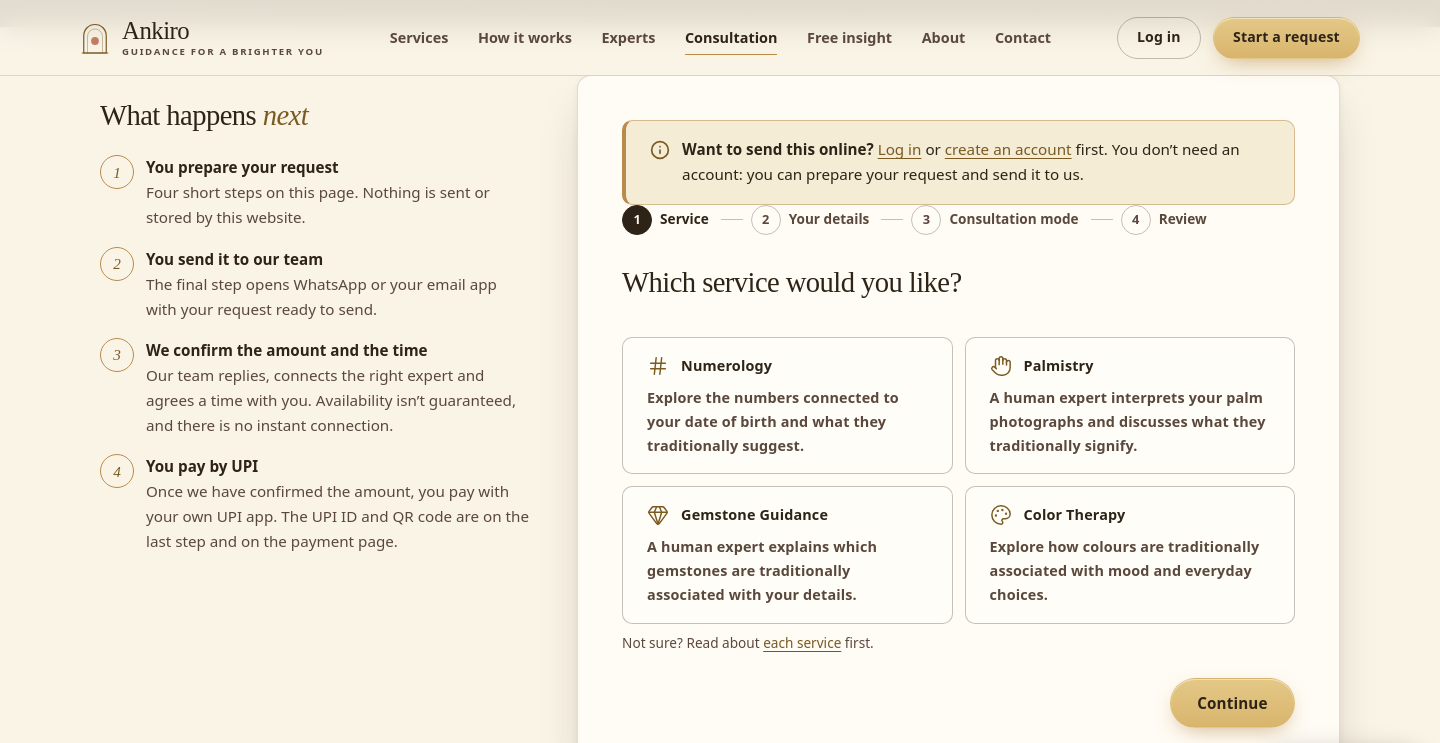
Test case: consultation request: online submission › a visitor who is not logged in is invited to log in and can still prepare an email request
(page scrolled)
Expected: the text "Want to send this online?" is shown, x1=682 y1=139 x2=874 y2=159
Click the radio button labelled "Numerology".
click(787, 406)  # box x1=622 y1=337 x2=952 y2=474
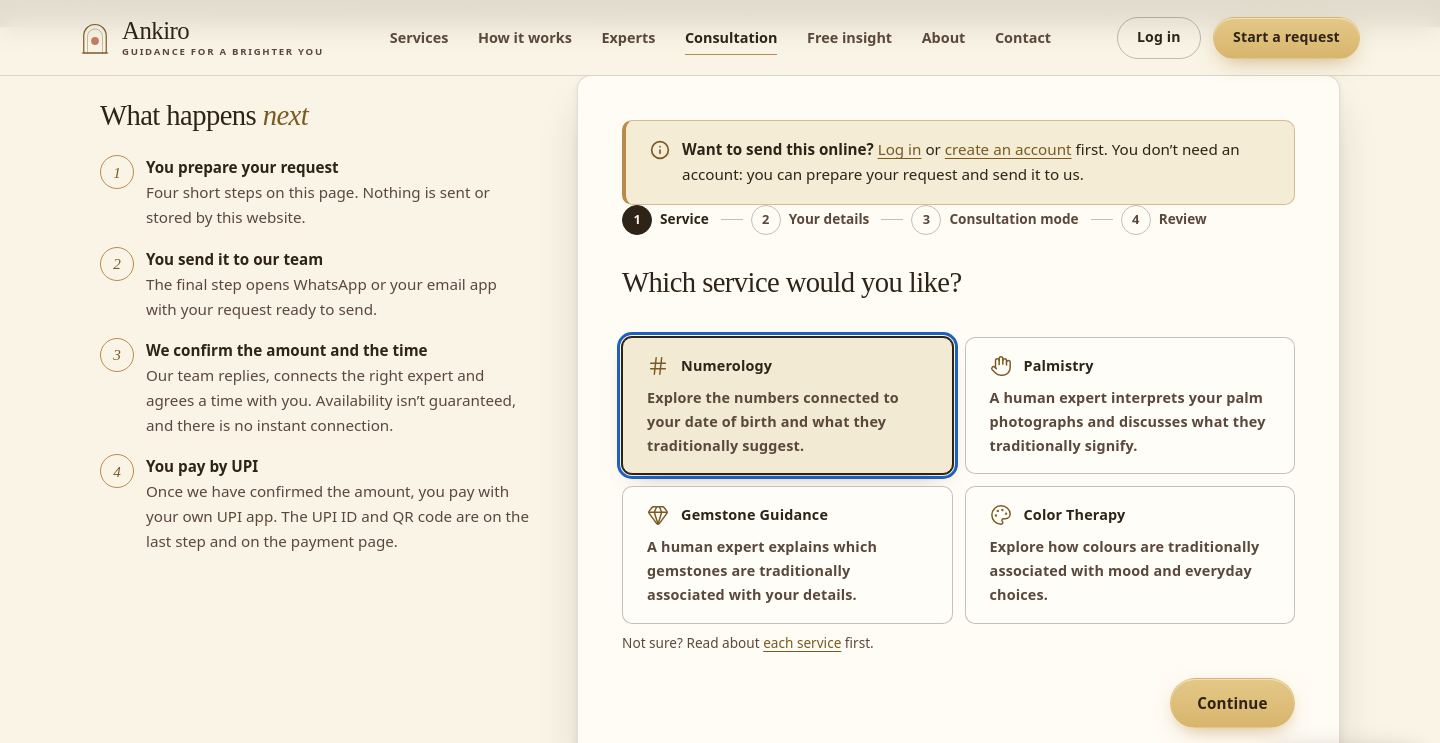
Click the button "Continue".
click(1232, 703)  # box x1=1170 y1=678 x2=1295 y2=728
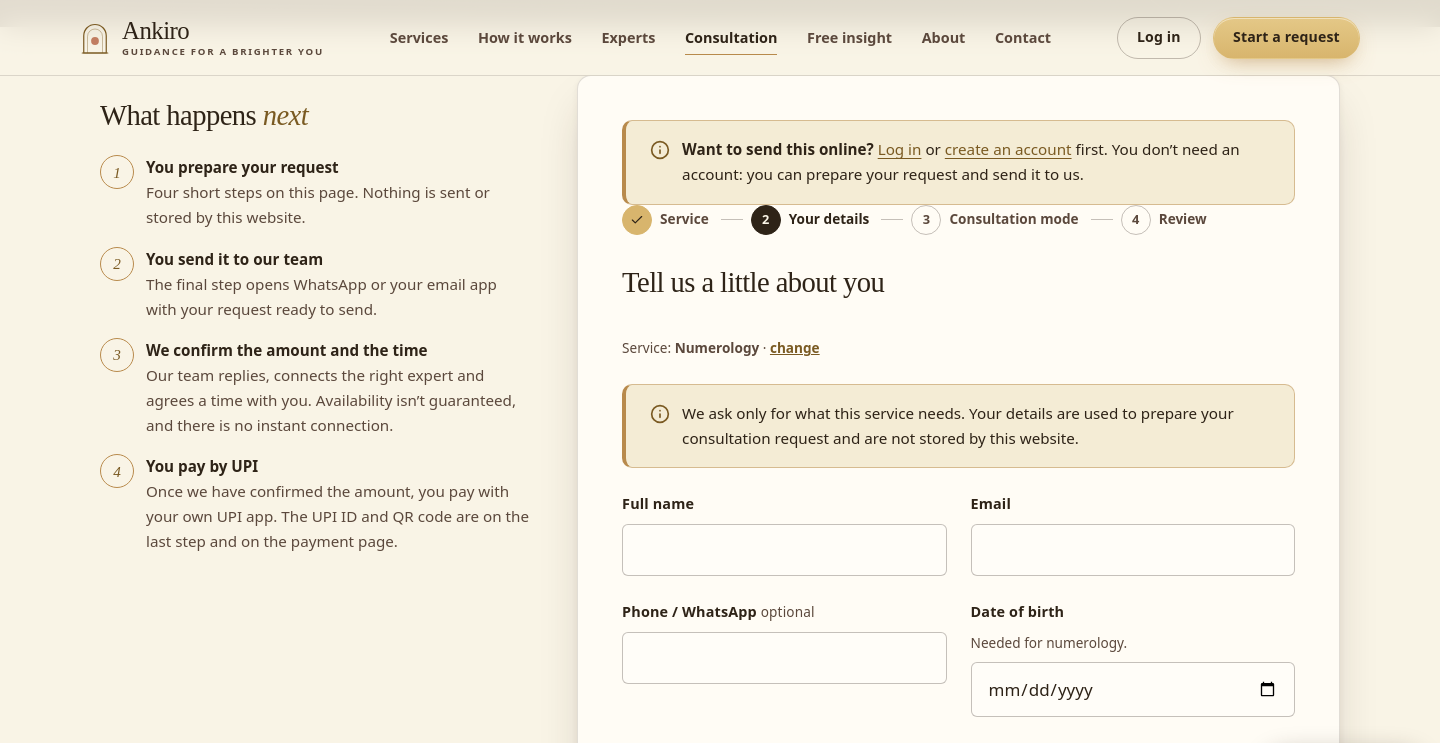
Now the field labelled "Email" is shown, box x1=970 y1=524 x2=1295 y2=576
